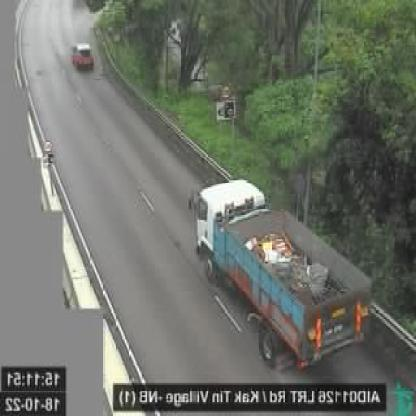Car: (73, 41, 94, 71)
Truck: (196, 180, 366, 373)
